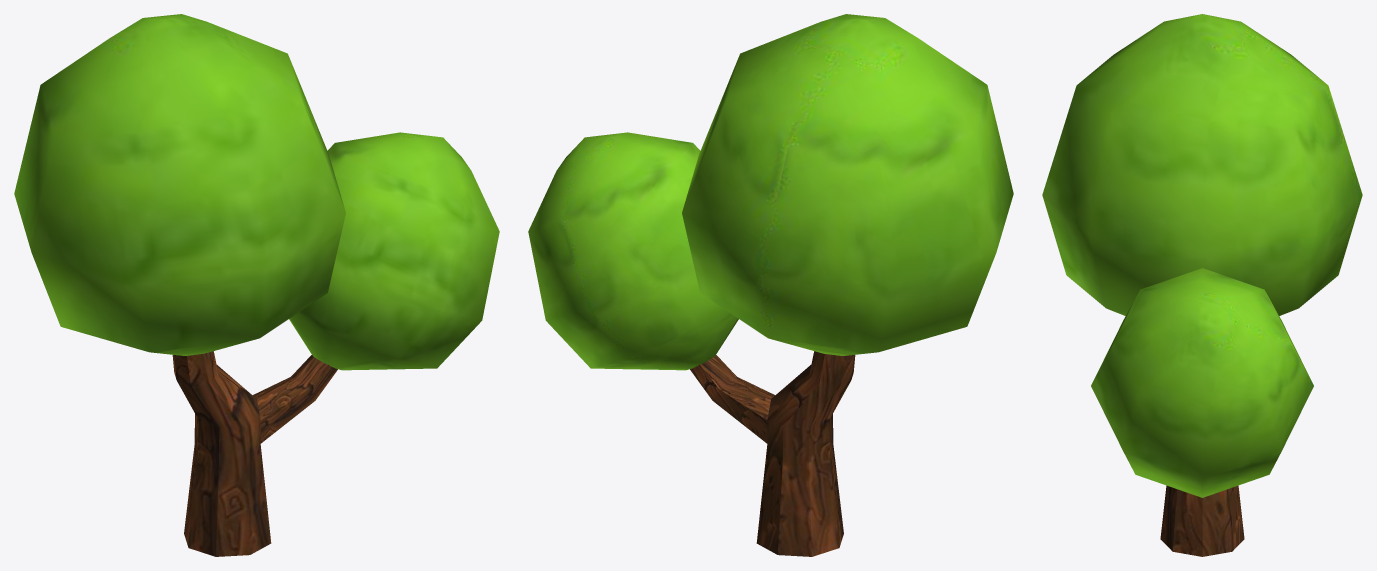
File: Tree2.fbx
3 views of the same model, side by side, from view 1: azimuth 30°, elevation 25°; view 2: azimuth 150°, elevation 25°; view 3: azimuth 270°, elevation 25° (orthographic). The views are drawn at different scales.
Visible parts, largest first — view 1: Trees_01; view 2: Trees_01; view 3: Trees_01.
Boxes of the visible parts, x1=… form: Trees_01: x1=14, y1=14, x2=499, y2=556; Trees_01: x1=528, y1=14, x2=1013, y2=556; Trees_01: x1=1042, y1=14, x2=1362, y2=556.
Bounding box in the file's own units: 4695 × 5256 × 3076.
Materials: 1 (1 with a texture image).
